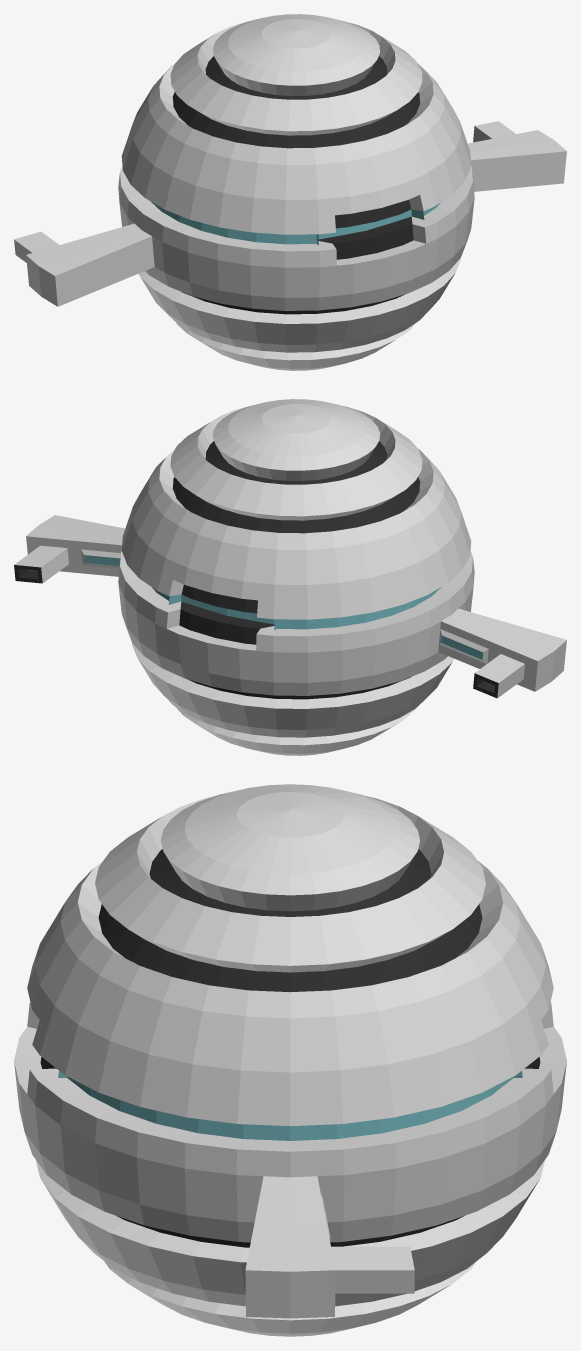
The model's file is HoverBotWithGun.fbx.
3 renders of one model, top to bottom at view 1: azimuth 30°, elevation 25°; view 2: azimuth 150°, elevation 25°; view 3: azimuth 270°, elevation 25°, orthographic. The views are drawn at different scales.
Visible parts, largest first — view 1: Sphere; view 2: Sphere; view 3: Sphere.
Boxes of the visible parts, box(x1,y1,x2,y2) form: Sphere: box(14, 14, 566, 370); Sphere: box(14, 399, 566, 755); Sphere: box(14, 784, 566, 1336).
Size of the model in its own units: 333 by 200 by 200.
